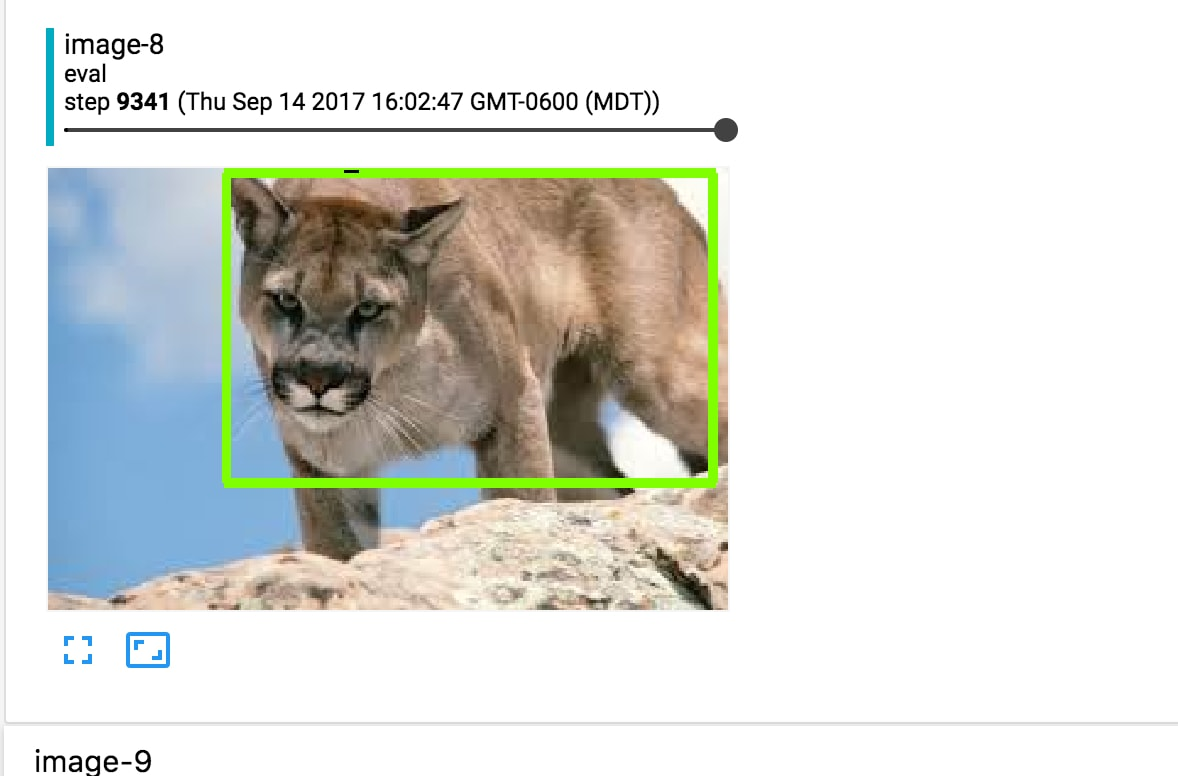Mountain Lion: (236, 181, 705, 474)
